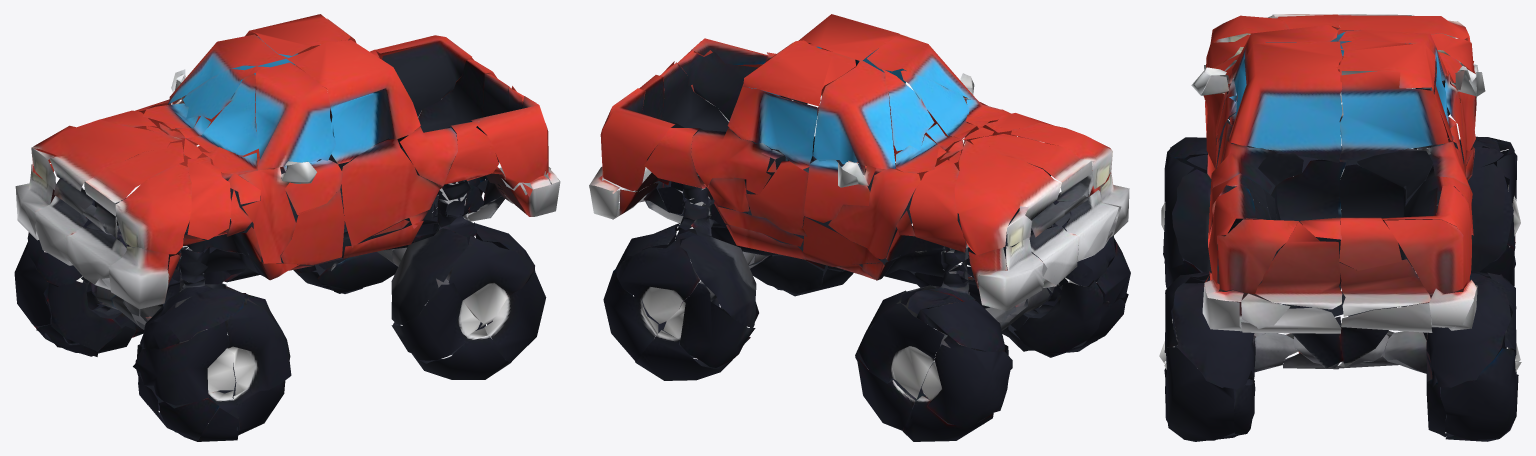
The model's file is art_lifted_truck.glb.
3 views of the same model, side by side, from view 1: azimuth 30°, elevation 25°; view 2: azimuth 150°, elevation 25°; view 3: azimuth 270°, elevation 25° (orthographic). The views are drawn at different scales.
Parts seen in each view (by area): view 1: Mesh_0; view 2: Mesh_0; view 3: Mesh_0.
Boxes of the visible parts, bbox=[...] form: Mesh_0: bbox=[14, 14, 560, 441]; Mesh_0: bbox=[589, 14, 1130, 441]; Mesh_0: bbox=[1159, 14, 1521, 441].
Bounding box in the file's own units: 1.9 × 1.26 × 1.23.
1 material, 1 textured.
